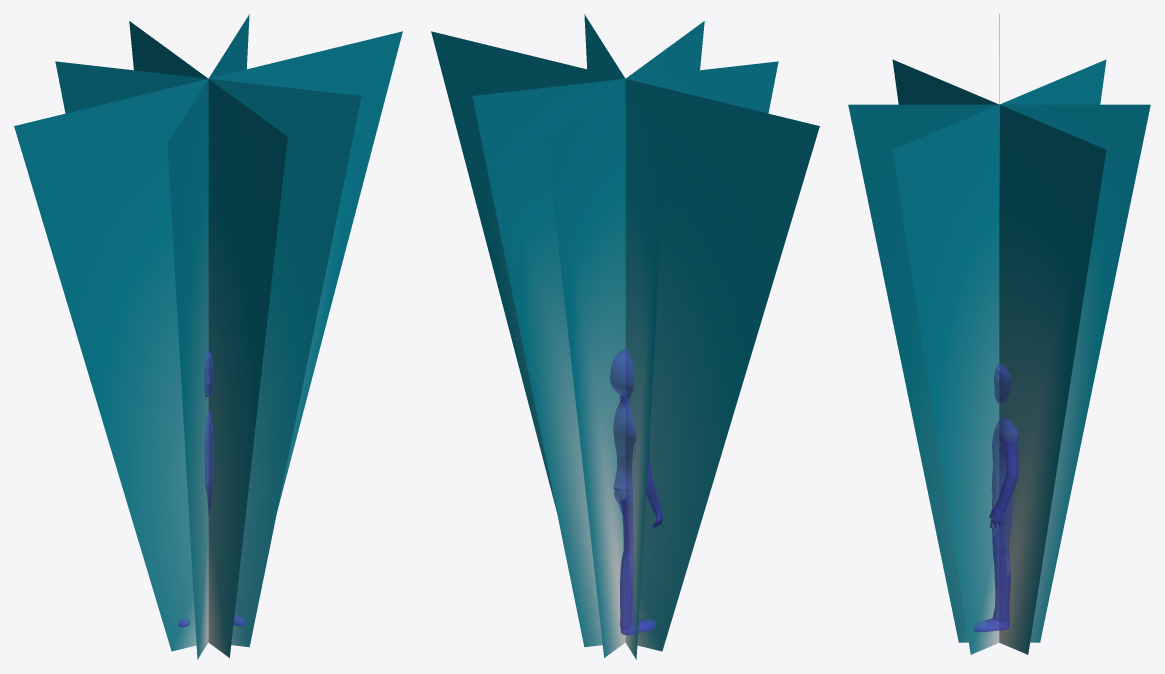
File: holo.obj
The picture shows the model from 3 angles, left to right: view 1: azimuth 30°, elevation 25°; view 2: azimuth 150°, elevation 25°; view 3: azimuth 270°, elevation 25°; orthographic projection. The views are drawn at different scales.
Parts seen in each view (by area): view 1: Plane_Hologram-lights_0.001, root_Material_82_0; view 2: Plane_Hologram-lights_0.001, root_Material_82_0; view 3: Plane_Hologram-lights_0.001, root_Material_82_0.
Boxes of the visible parts, x1=… form: Plane_Hologram-lights_0.001: x1=14, y1=14, x2=402, y2=659; root_Material_82_0: x1=178, y1=350, x2=245, y2=627; Plane_Hologram-lights_0.001: x1=431, y1=14, x2=819, y2=659; root_Material_82_0: x1=610, y1=349, x2=662, y2=635; Plane_Hologram-lights_0.001: x1=848, y1=14, x2=1150, y2=654; root_Material_82_0: x1=973, y1=363, x2=1018, y2=631.
Size of the model in its own units: 10.06 by 13.94 by 7.1.
